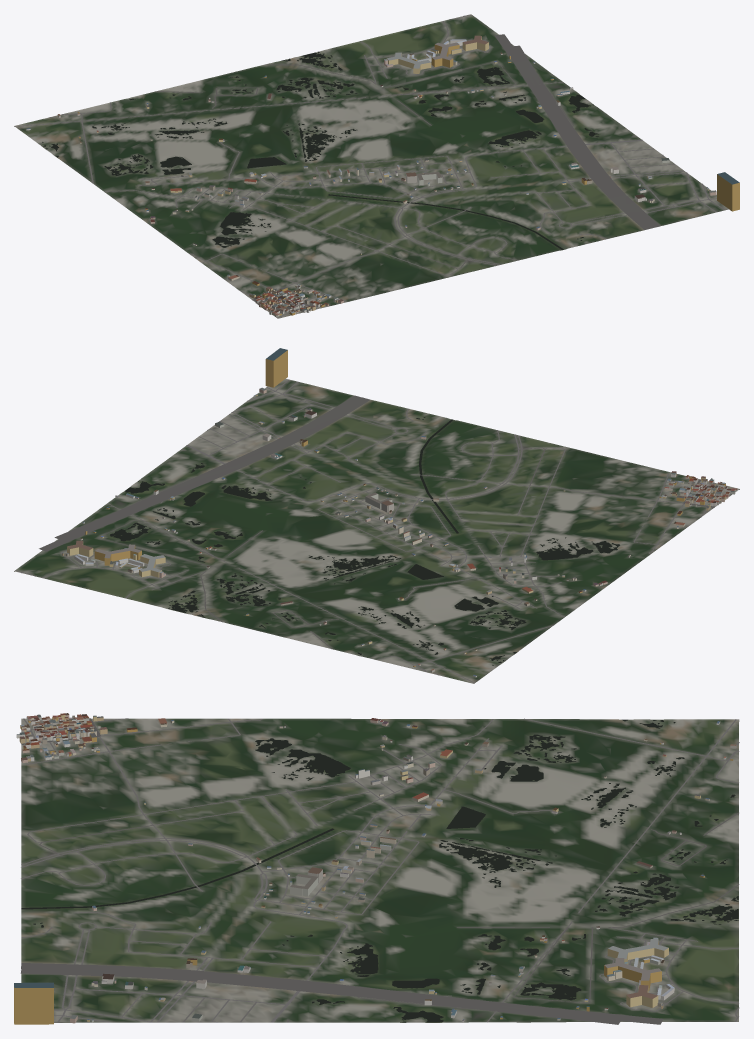
3 renders of one model, top to bottom at view 1: azimuth 30°, elevation 25°; view 2: azimuth 150°, elevation 25°; view 3: azimuth 270°, elevation 25°, orthographic. The views are drawn at different scales.
Visible parts, largest first — view 1: ground, roads, buildings, water; view 2: ground, roads, buildings, water; view 3: ground, roads, buildings, water.
Boxes of the visible parts, box(x1,y1,x2,y2) form: ground: box(14, 14, 728, 318); roads: box(15, 15, 725, 318); buildings: box(26, 35, 739, 317); water: box(42, 51, 598, 249); ground: box(14, 378, 739, 683); roads: box(15, 379, 738, 683); buildings: box(62, 348, 737, 677); water: box(110, 417, 619, 665); ground: box(21, 718, 739, 1022); roads: box(20, 718, 739, 1024); buildings: box(14, 713, 736, 1024); water: box(21, 719, 738, 1022).
Size of the model in its own units: 1420 by 81.62 by 1418.
